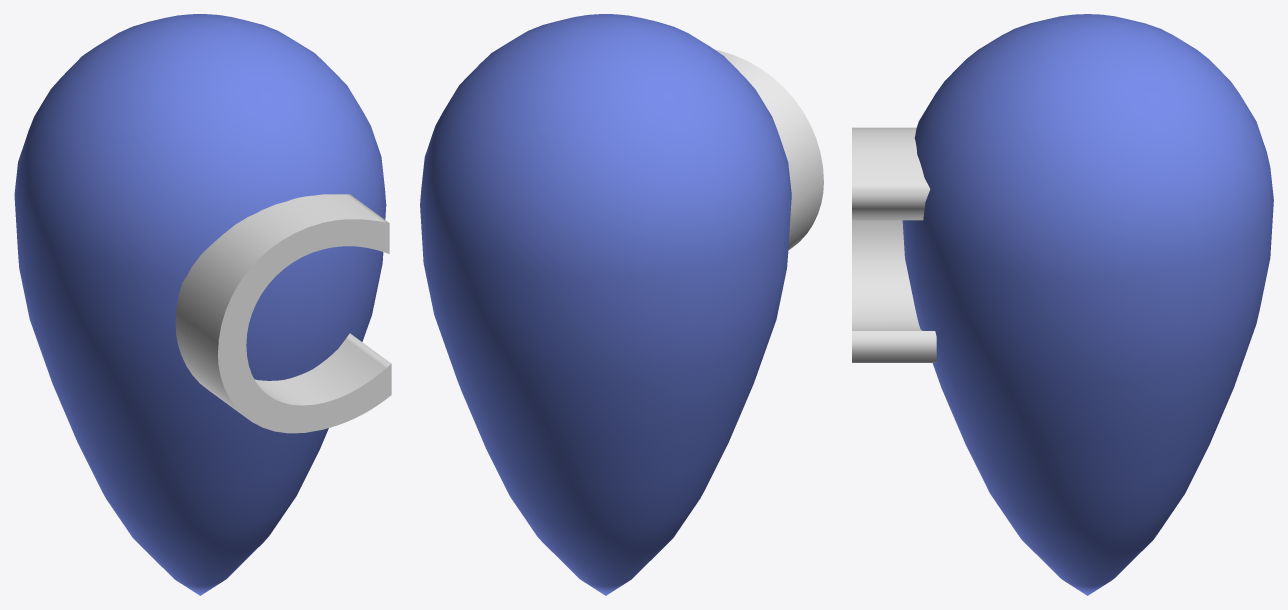
The model's file is cEntrancePin.glb.
3 views of the same model, side by side, from view 1: azimuth 30°, elevation 25°; view 2: azimuth 150°, elevation 25°; view 3: azimuth 270°, elevation 25° (orthographic).
Parts seen in each view (by area): view 1: pin, Text.003; view 2: pin, Text.003; view 3: pin, Text.003.
Boxes of the visible parts, <box> form: pin: <box>14,14,386,595</box>; Text.003: <box>175,194,391,433</box>; pin: <box>420,14,791,595</box>; Text.003: <box>714,49,823,250</box>; pin: <box>902,14,1273,595</box>; Text.003: <box>852,127,936,362</box>.
Bounding box in the file's own units: 0.2435 × 0.4072 × 0.2757.
